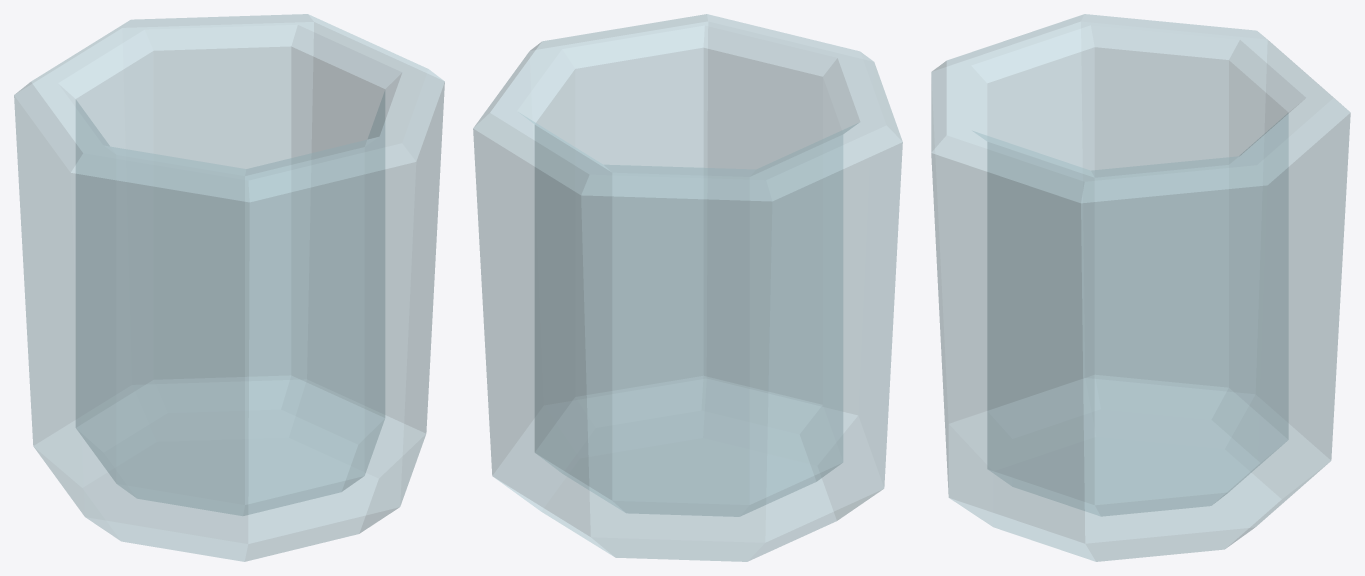
Rendered from glass.fbx.
3 renders of one model, left to right at view 1: azimuth 30°, elevation 25°; view 2: azimuth 150°, elevation 25°; view 3: azimuth 270°, elevation 25°, orthographic.
Visible parts, largest first — view 1: glass; view 2: glass; view 3: glass.
Part boxes in pixels (x1,y1,x2,y2): glass: [14, 14, 444, 561]; glass: [473, 14, 902, 561]; glass: [931, 14, 1350, 561].
Bounding box in the file's own units: 51.76 × 53.28 × 50.46.
